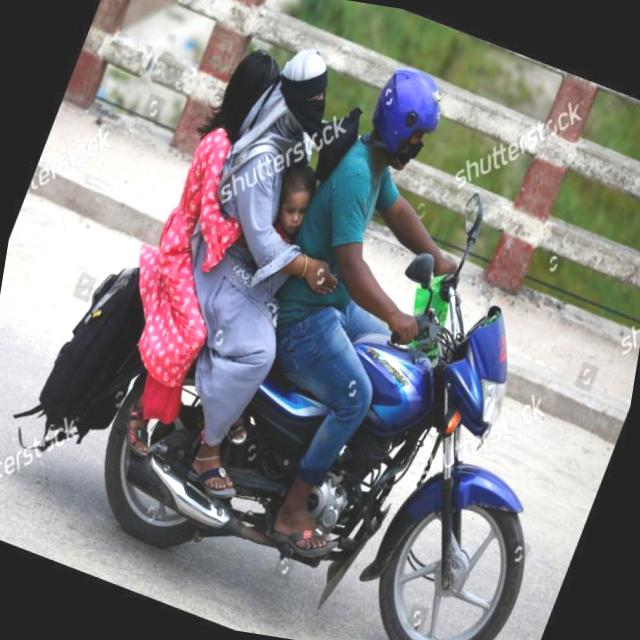motorcycle: (72, 239, 562, 640)
person: (268, 51, 470, 472), (130, 33, 311, 442), (192, 37, 366, 456), (242, 162, 336, 350)
rider_region: (98, 26, 605, 640)
